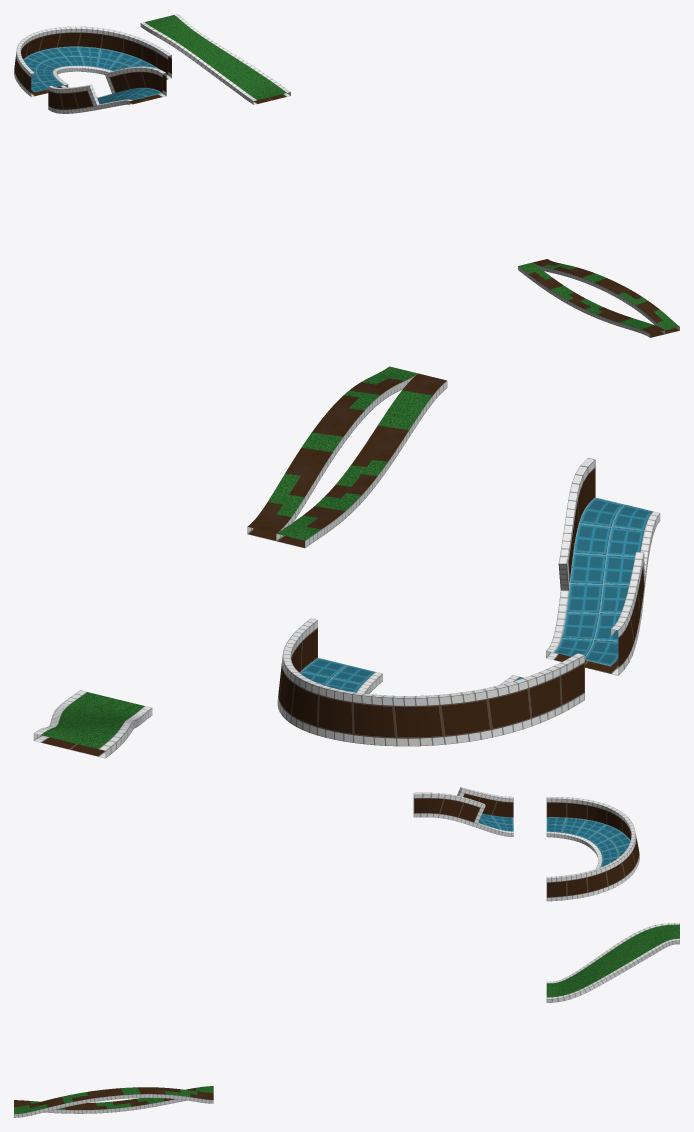
File: ParadiseStormBlenderCurves.obj
The picture shows the model from 3 angles, top to bottom: view 1: azimuth 30°, elevation 25°; view 2: azimuth 150°, elevation 25°; view 3: azimuth 270°, elevation 25°; orthographic projection. The views are drawn at different scales.
Visible parts, largest first — view 1: Cube.002, Cube, Cube.001, Cube.005, Cube.006; view 2: Cube.002, Cube.001, Cube.005, Cube.006, Cube; view 3: Cube.002, Cube, Cube.001, Cube.006, Cube.005.
Part boxes in pixels (x1,y1,x2,y2): Cube.002: (14,26,171,97); Cube: (140,14,290,104); Cube.001: (48,66,166,113); Cube.005: (518,262,664,337); Cube.006: (533,259,679,334); Cube.002: (277,618,584,746); Cube.001: (546,458,660,675); Cube.005: (276,373,447,548); Cube.006: (247,366,417,540); Cube: (33,690,152,758); Cube.002: (546,797,639,901); Cube: (546,923,679,1002); Cube.001: (413,787,513,836); Cube.006: (14,1087,213,1117); Cube.005: (14,1086,213,1113).
Size of the model in its own units: 50.5 by 24.62 by 80.
